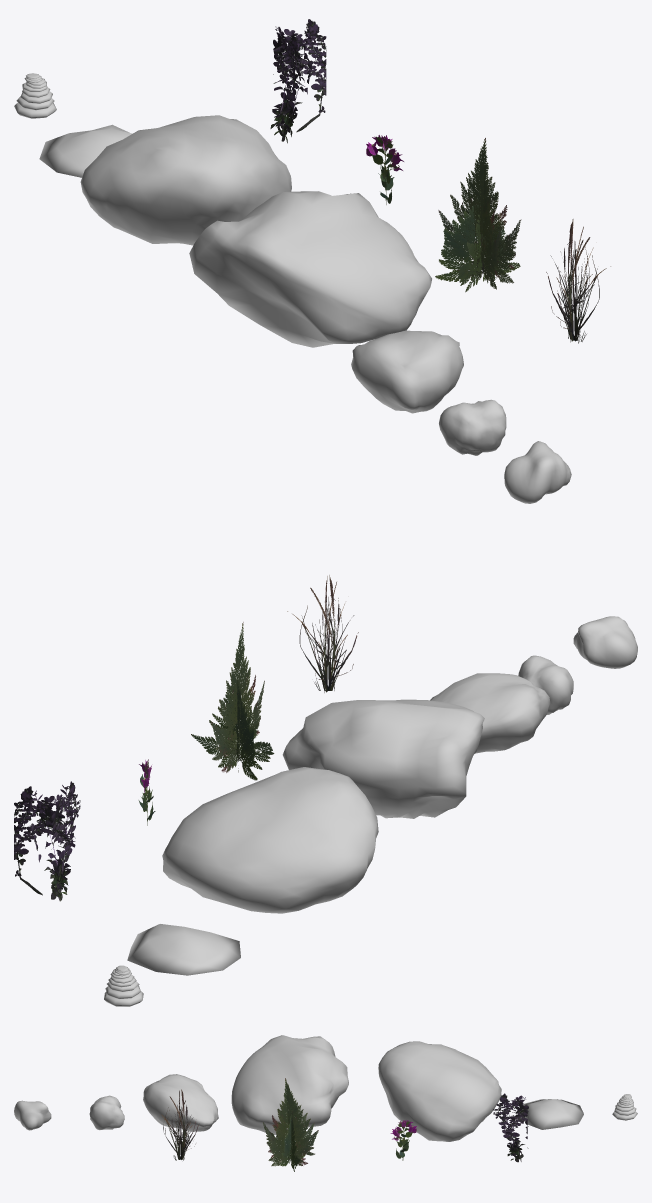
File: Forest Assets 1.fbx
3 views of the same model, one above another, from view 1: azimuth 30°, elevation 25°; view 2: azimuth 150°, elevation 25°; view 3: azimuth 270°, elevation 25° (orthographic). The views are drawn at different scales.
Parts seen in each view (by area): view 1: Stone Large 2, Stone Large, Stone Mid, Fern, Flower 2, Stone Small 2, Stone Small 1, Pebble Pile, Grass Stroh, Stone Waypoint, Flower 1; view 2: Stone Large, Stone Large 2, Stone Mid, Fern, Pebble Pile, Flower 2, Stone Small 1, Grass Stroh, Stone Small 2, Stone Waypoint; view 3: Stone Large, Stone Large 2, Stone Mid, Fern, Pebble Pile, Flower 2, Stone Small 2, Grass Stroh, Stone Small 1, Flower 1, Stone Waypoint.
Boxes of the visible parts, x1=… form: Stone Large 2: x1=189, y1=191, x2=431, y2=347; Stone Large: x1=80, y1=115, x2=291, y2=245; Stone Mid: x1=351, y1=330, x2=463, y2=413; Fern: x1=435, y1=138, x2=521, y2=292; Flower 2: x1=270, y1=19, x2=326, y2=143; Stone Small 2: x1=439, y1=399, x2=506, y2=455; Stone Small 1: x1=504, y1=441, x2=571, y2=503; Pebble Pile: x1=39, y1=124, x2=132, y2=177; Grass Stroh: x1=546, y1=219, x2=610, y2=343; Stone Waypoint: x1=14, y1=73, x2=56, y2=118; Flower 1: x1=366, y1=135, x2=403, y2=204; Stone Large: x1=162, y1=767, x2=378, y2=913; Stone Large 2: x1=282, y1=699, x2=484, y2=818; Stone Mid: x1=430, y1=673, x2=550, y2=753; Fern: x1=191, y1=622, x2=274, y2=780; Pebble Pile: x1=127, y1=924, x2=240, y2=975; Flower 2: x1=14, y1=781, x2=80, y2=901; Stone Small 1: x1=573, y1=616, x2=637, y2=668; Grass Stroh: x1=287, y1=575, x2=358, y2=692; Stone Small 2: x1=518, y1=655, x2=573, y2=714; Stone Waypoint: x1=104, y1=965, x2=143, y2=1006; Stone Large: x1=378, y1=1041, x2=501, y2=1141; Stone Large 2: x1=231, y1=1035, x2=348, y2=1135; Stone Mid: x1=143, y1=1074, x2=218, y2=1131; Fern: x1=263, y1=1078, x2=318, y2=1171; Pebble Pile: x1=522, y1=1099, x2=583, y2=1129; Flower 2: x1=493, y1=1093, x2=528, y2=1162; Stone Small 2: x1=89, y1=1095, x2=124, y2=1130; Grass Stroh: x1=161, y1=1089, x2=199, y2=1160; Stone Small 1: x1=14, y1=1100, x2=51, y2=1130; Flower 1: x1=390, y1=1120, x2=416, y2=1160; Stone Waypoint: x1=612, y1=1094, x2=637, y2=1120.
Bounding box in the file's own units: 597 × 324 × 1683.
